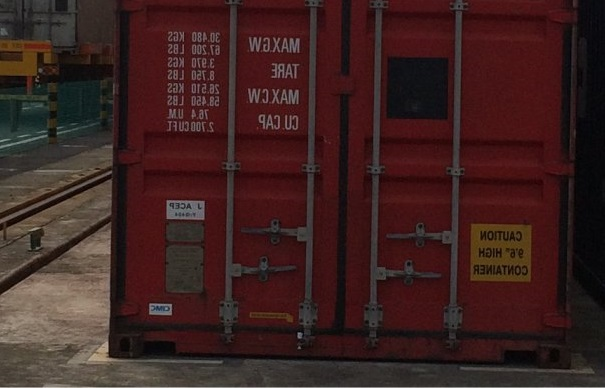container_door: (104, 1, 573, 372)
